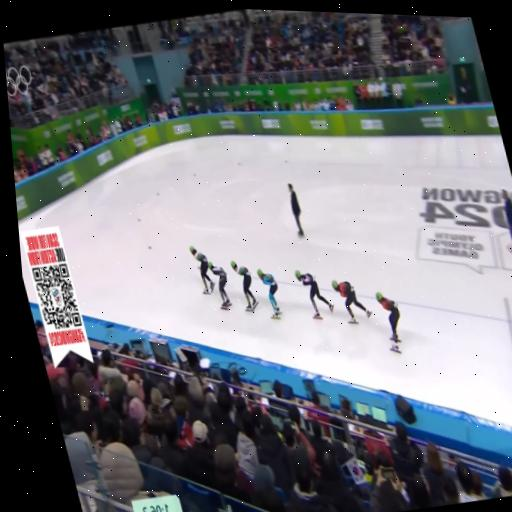Skater: (295, 270, 333, 319), (331, 281, 370, 323), (375, 293, 399, 352), (231, 261, 257, 311), (190, 247, 214, 294), (256, 269, 279, 317), (207, 261, 230, 309)
